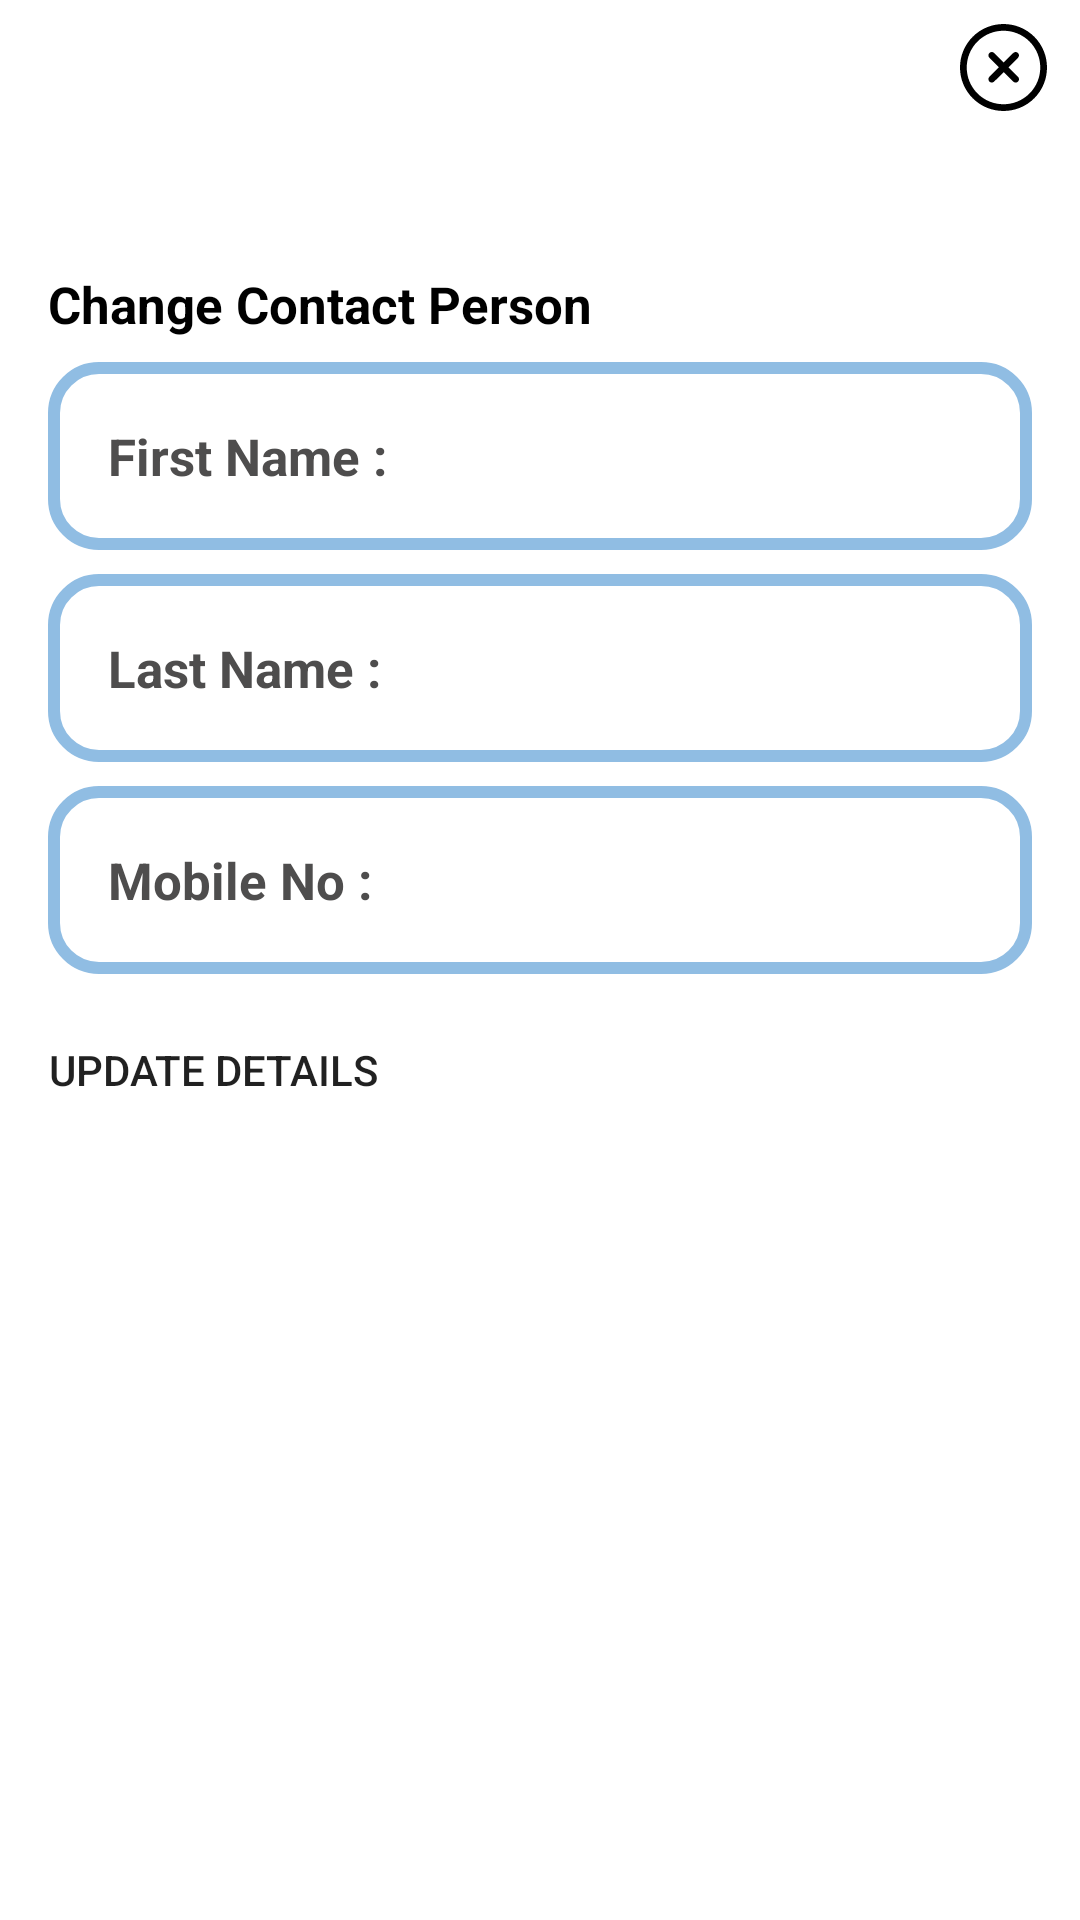

Screen size 1080x1920. Icon name, then its box in pixels as (x1, y1, x2, y2):
cancel: (960, 24, 1047, 111)
